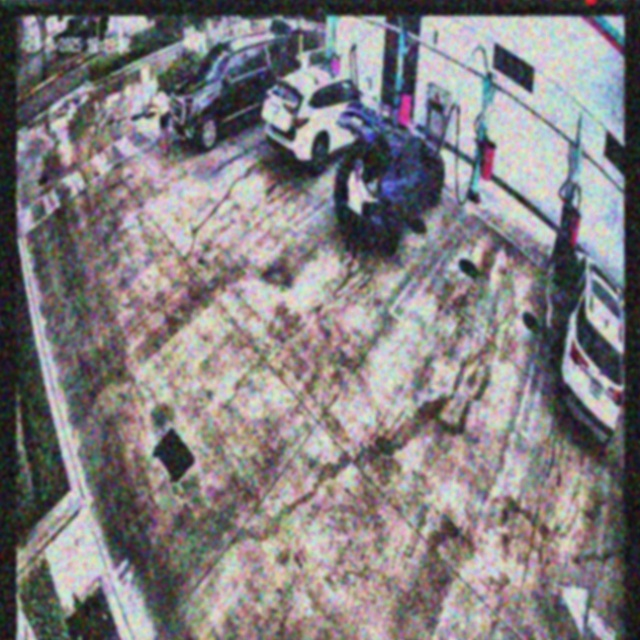Car: (335, 107, 444, 258), (264, 63, 378, 173)
